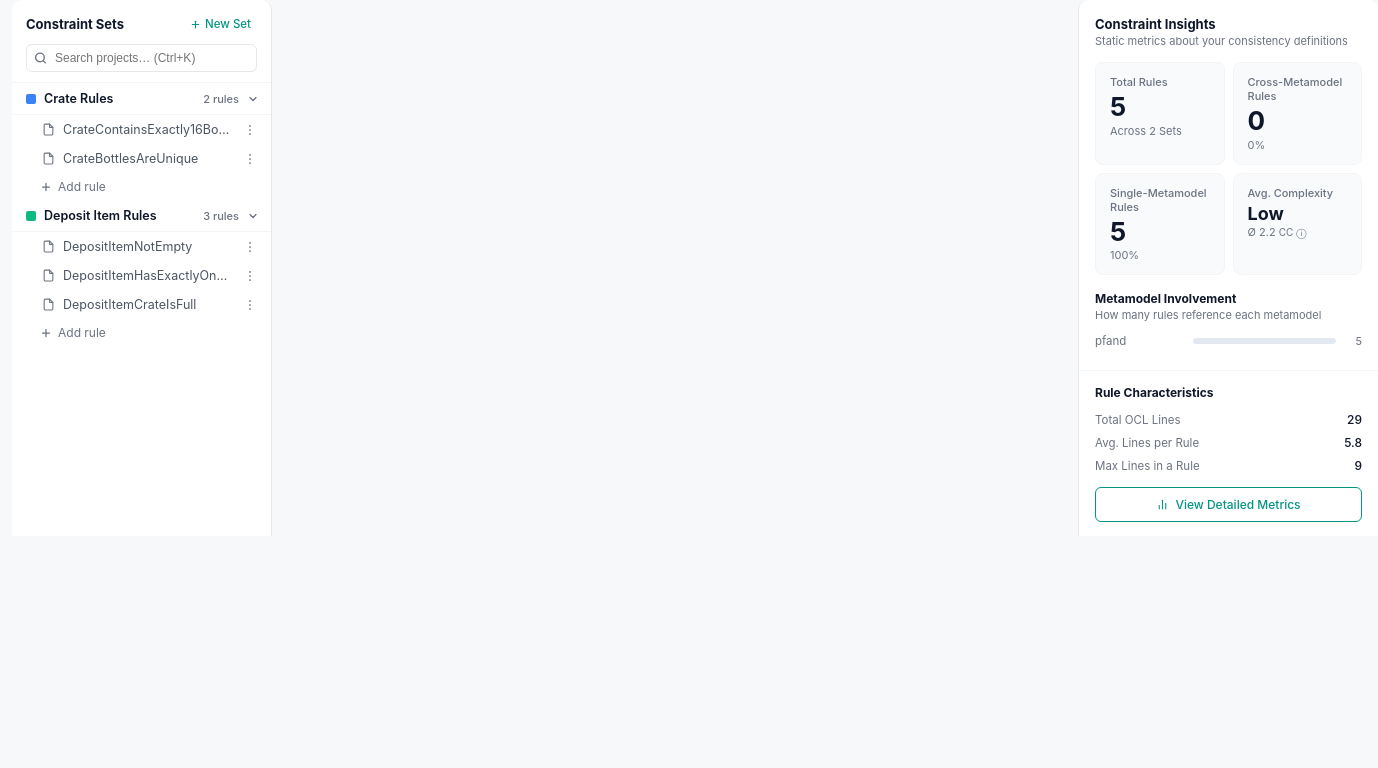
ConstraintsView › ruleset panel › opens RuleSetPanel when clicking a ruleset
The width and height of the screenshot is (1378, 768).
What coordinates should you click on to do the following:
click the text "Crate Rules"
I would click on:
 (79, 98)
Its box is [44,91,113,106].
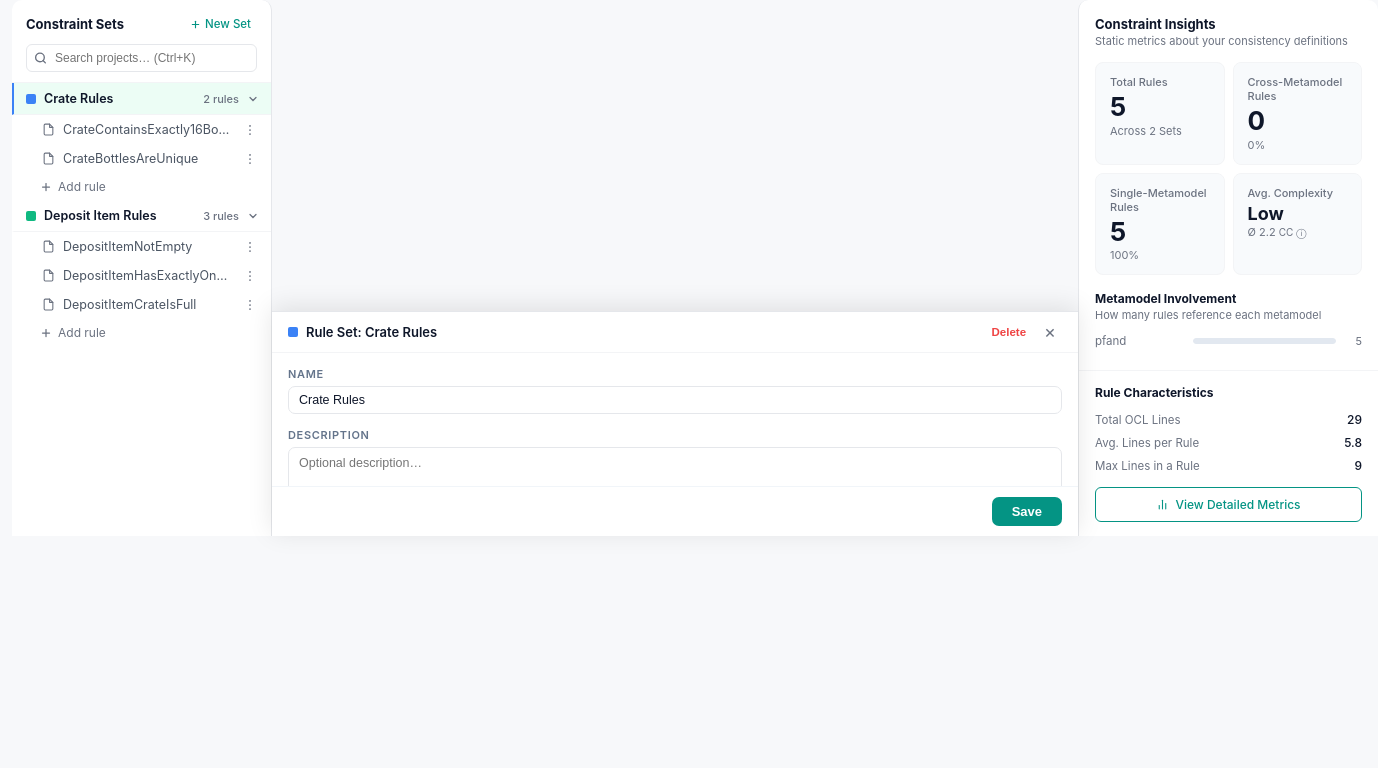
Expected: the text "Rule Set: Crate Rules" is shown, [306,324,437,340]
